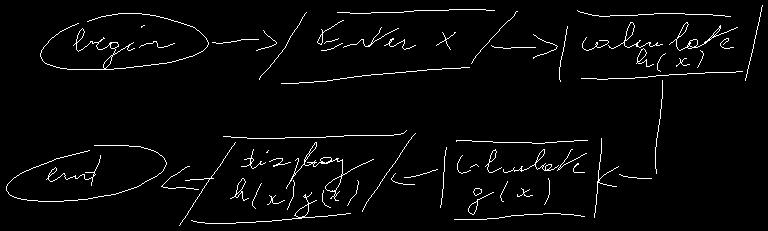arrow: (598, 80, 662, 186), (491, 34, 557, 58), (212, 30, 276, 50), (161, 166, 213, 189), (391, 169, 437, 184)
data: (179, 130, 415, 225), (259, 9, 517, 83), (559, 5, 762, 81)
process: (440, 138, 601, 219)
terminator: (40, 13, 208, 69), (6, 145, 166, 201)
text: (230, 142, 373, 217), (457, 149, 586, 214), (582, 22, 737, 71), (73, 25, 174, 68), (317, 20, 455, 50), (46, 155, 100, 185)
